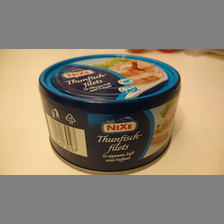fish: (38, 54, 181, 174)
